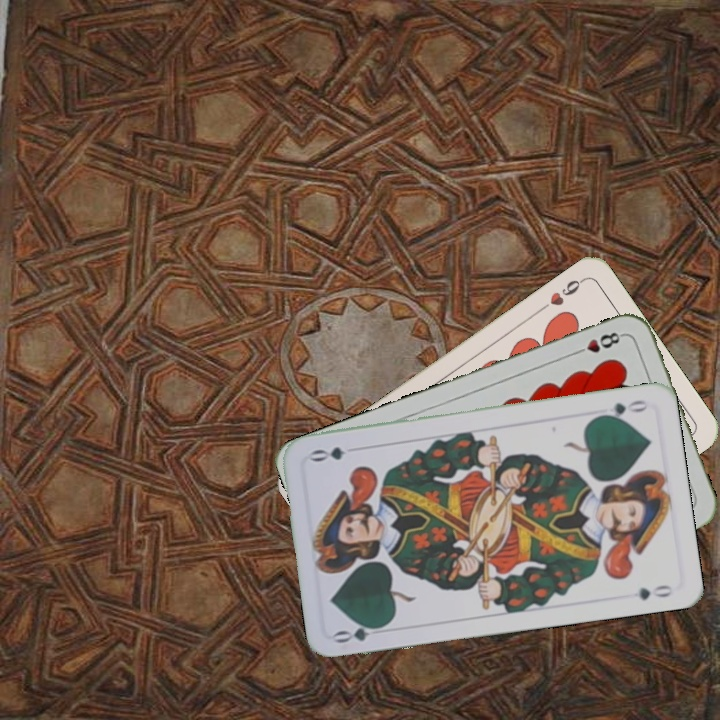GO: (331, 619, 390, 646), (593, 396, 651, 422)
H8: (570, 328, 627, 358)
H9: (536, 274, 587, 314)
